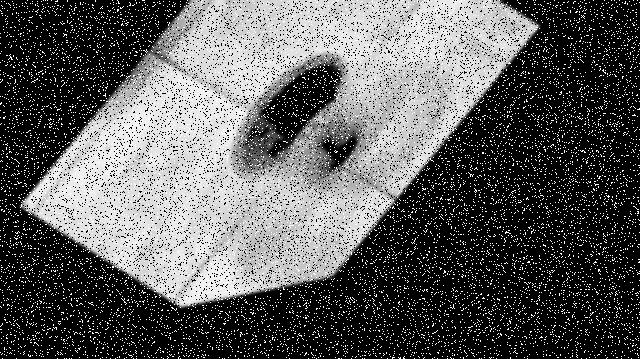pot: (233, 51, 370, 183)
